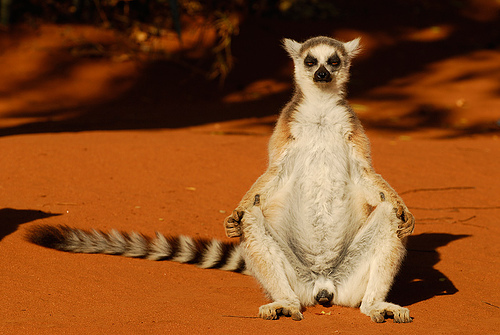cat: (28, 27, 418, 327)
